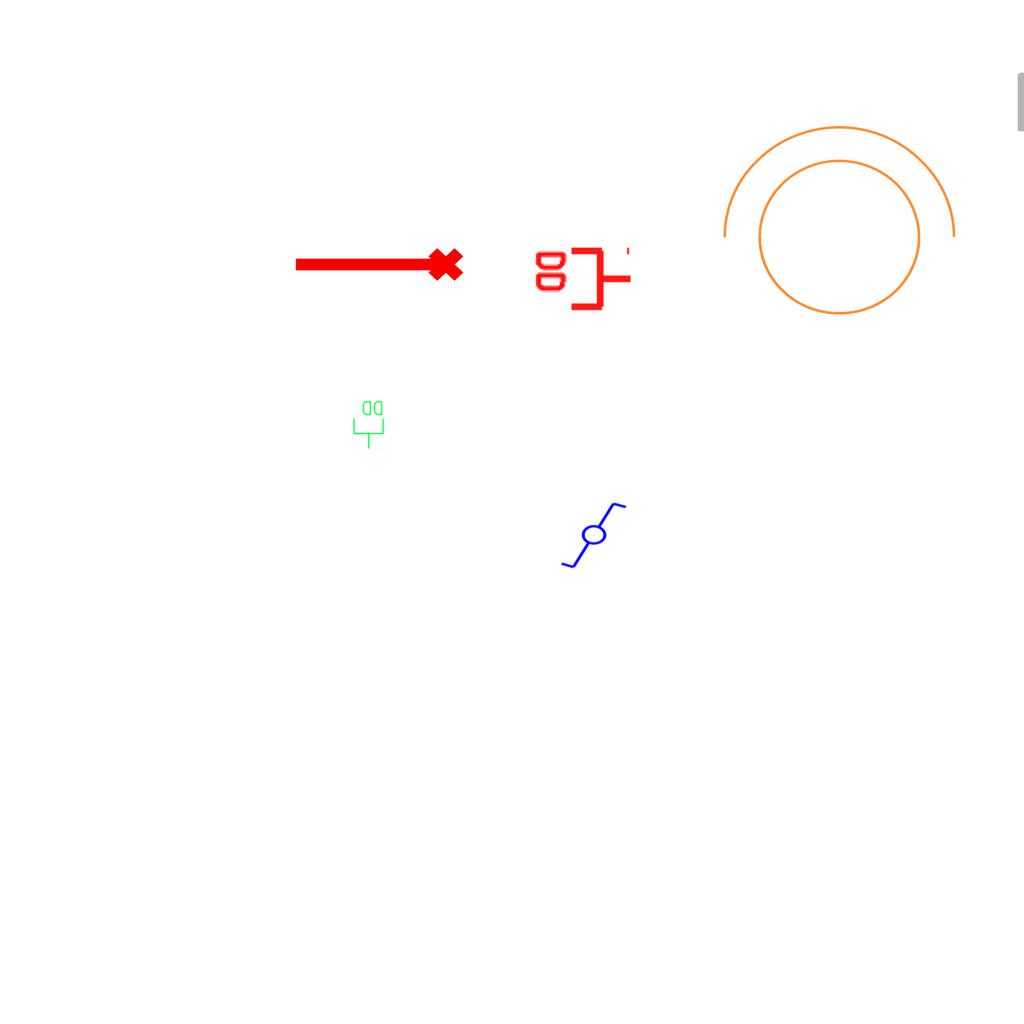ASR_Ansaugoeffnung: (290, 244, 466, 290)
Datenanschluss_zweifach: (531, 246, 634, 315), (352, 399, 386, 450)
Scheinwerfer_fuer_Alarmbeleuchtung: (701, 115, 965, 340)
Wechselschalter: (559, 500, 637, 572)
